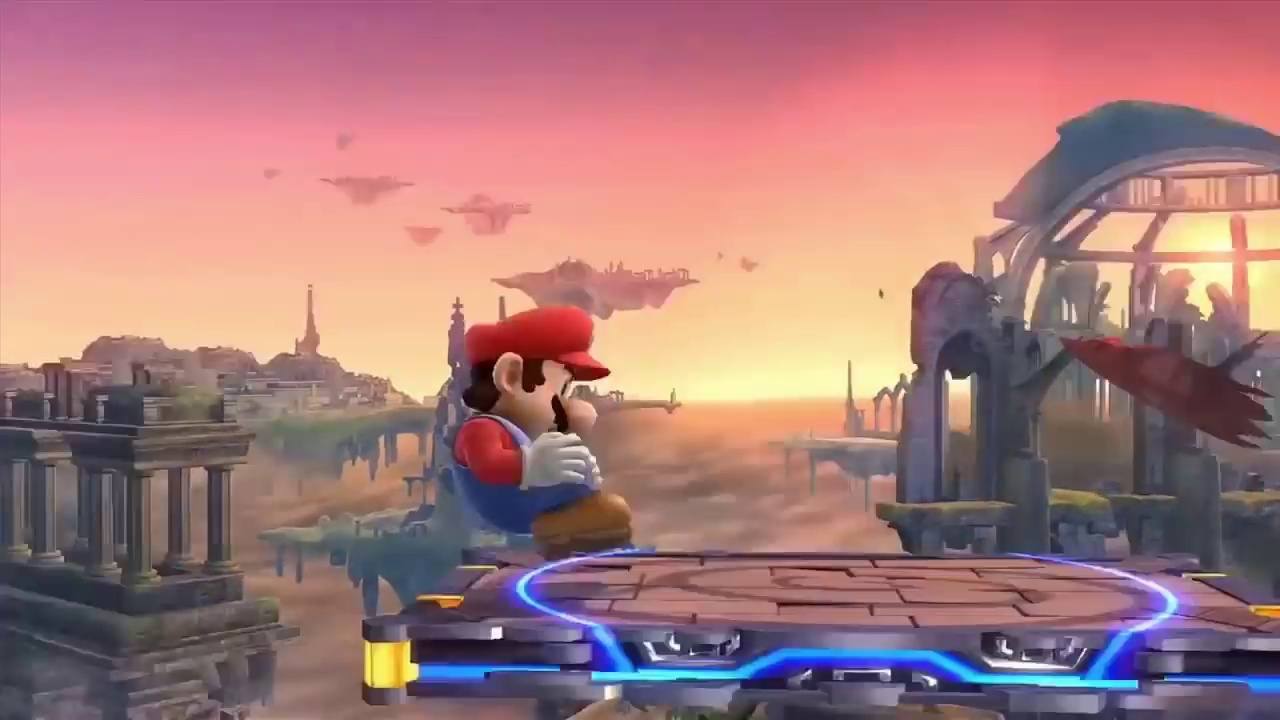Mario: (457, 305, 631, 550)
